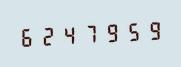five: (122, 18, 142, 44)
four: (59, 21, 79, 47)
nine: (101, 19, 121, 45), (143, 17, 163, 43)
seven: (80, 20, 100, 46)
six: (17, 23, 37, 49)
two: (38, 22, 58, 48)
